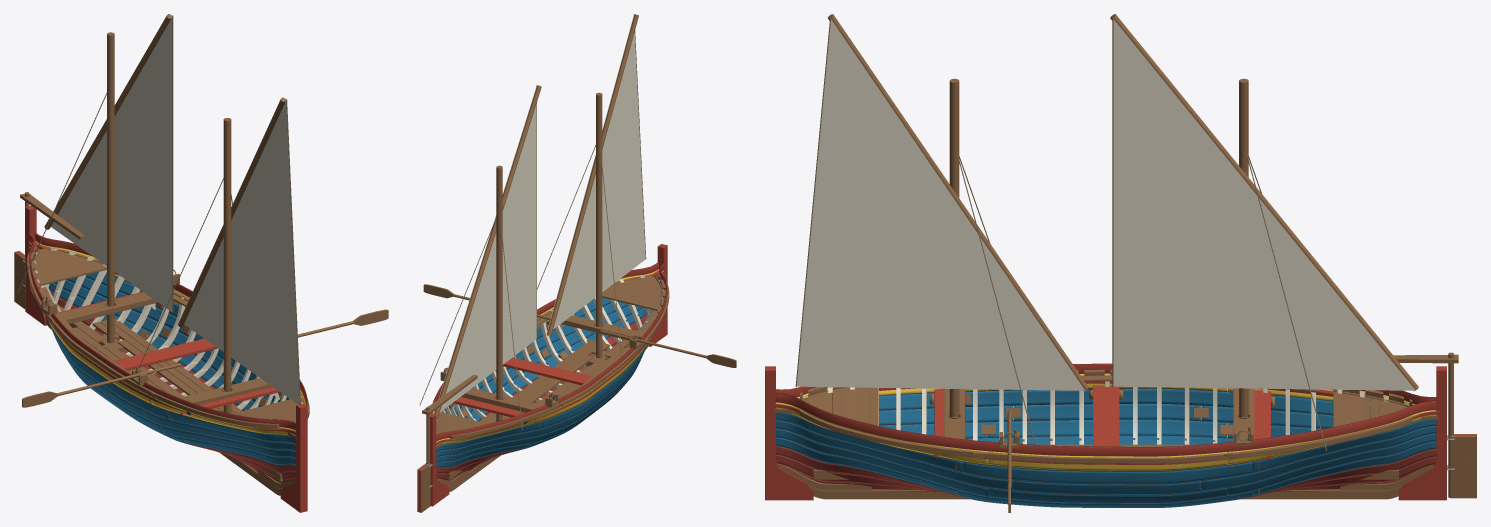
Rendered from latini.glb.
The picture shows the model from 3 angles, left to right: view 1: azimuth 30°, elevation 25°; view 2: azimuth 150°, elevation 25°; view 3: azimuth 270°, elevation 25°; orthographic projection. The views are drawn at different scales.
Parts seen in each view (by area): view 1: sail-459, sail-474, mast-472, mast-457, washboards-74, bow-post-5, yard-473, yard-458, thwarts-339, mast-partners-454, planking-52, planking-57 (+29 smaller); view 2: sail-459, sail-474, mast-472, yard-458, mast-457, yard-473, washboards-74, thwarts-339, stern-post-6, planking-57, planking-50, mast-partners-454 (+23 smaller); view 3: sail-459, sail-474, washboards-173, planking-156, planking-57, planking-37, yard-458, keel-0, bow-post-5, stern-post-6, yard-473, planking-136 (+32 smaller).
Boxes of the visible parts, <box> form: sail-459: <box>51,17,172,311</box>; sail-474: <box>184,100,299,404</box>; mast-472: <box>223,118,231,413</box>; mast-457: <box>107,32,114,343</box>; washboards-74: <box>29,234,295,430</box>; bow-post-5: <box>280,403,307,512</box>; yard-473: <box>178,97,285,327</box>; yard-458: <box>44,14,171,229</box>; thwarts-339: <box>113,338,217,370</box>; mast-partners-454: <box>60,292,157,323</box>; planking-52: <box>142,410,295,451</box>; planking-57: <box>51,326,168,419</box>; sail-459: <box>434,86,536,413</box>; sail-474: <box>546,15,645,334</box>; mast-472: <box>596,92,602,358</box>; yard-458: <box>434,85,541,419</box>; mast-457: <box>496,165,502,421</box>; yard-473: <box>547,14,638,336</box>; washboards-74: <box>436,263,667,441</box>; thwarts-339: <box>502,357,592,385</box>; stern-post-6: <box>430,413,449,506</box>; planking-57: <box>542,348,645,427</box>; planking-50: <box>436,419,567,457</box>; mast-partners-454: <box>461,388,543,412</box>; sail-459: <box>1113,19,1415,390</box>; sail-474: <box>796,19,1085,390</box>; washboards-173: <box>775,392,1436,456</box>; planking-156: <box>963,462,1252,483</box>; planking-57: <box>965,388,1233,406</box>; planking-37: <box>988,419,1227,437</box>; yard-458: <box>1110,14,1418,390</box>; keel-0: <box>827,488,1384,499</box>; bow-post-5: <box>765,366,813,500</box>; stern-post-6: <box>1398,366,1446,500</box>; yard-473: <box>827,14,1088,390</box>; planking-136: <box>988,488,1227,503</box>.
Bounding box in the file's own units: 9.68 × 9.93 × 13.15.
